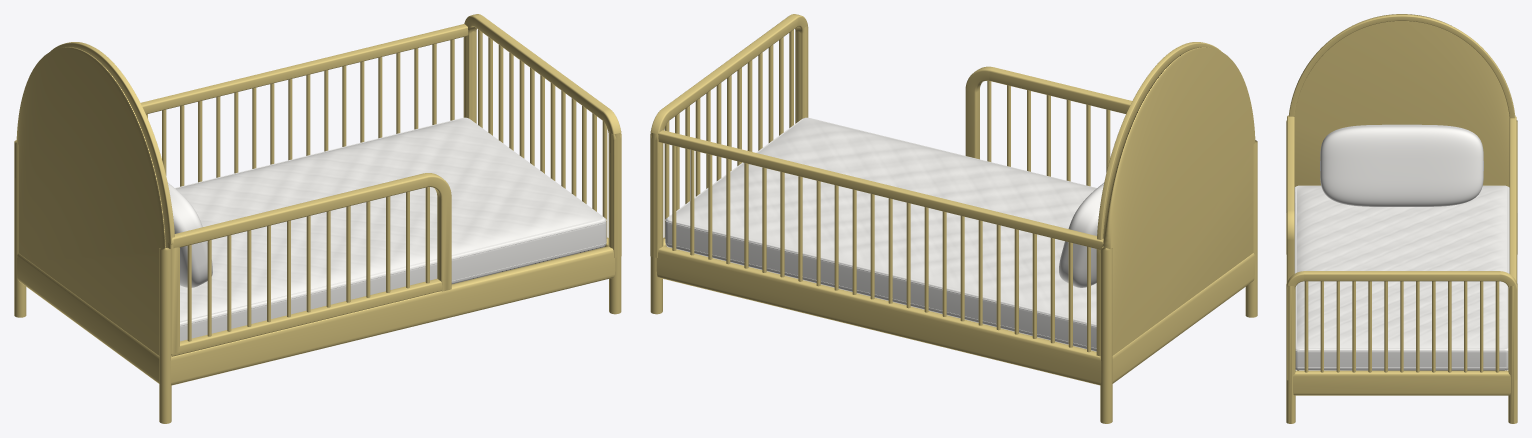
Rendered from yellow_toto2_kids.glb.
The picture shows the model from 3 angles, left to right: view 1: azimuth 30°, elevation 25°; view 2: azimuth 150°, elevation 25°; view 3: azimuth 270°, elevation 25°; orthographic projection. The views are drawn at different scales.
Visible parts, largest first — view 1: White diamond quilted comforter, Solid arched headboard, Long base rail, Fitted ivory mattress covering bed deck 2000 x 1110 x 120 mm, Front guard rounded entry corner, Rounded corner leg (×4), Rounded foot guard outer frame, Back upper rail, End base rail, Front lower rail, Foot guard vertical spindle (×5), Soft white rectangular pillow (+3 smaller); view 2: White diamond quilted comforter, Solid arched headboard, Long base rail, Fitted ivory mattress covering bed deck 2000 x 1110 x 120 mm, Back upper rail, Rounded corner leg (×4), Rounded foot guard outer frame, End base rail, Front guard rounded entry corner, Raised rounded arch border, Soft white rectangular pillow, Foot guard vertical spindle (+1 smaller); view 3: White diamond quilted comforter, Solid arched headboard, Soft white rectangular pillow, End base rail, Foot guard vertical spindle (×13), Fitted ivory mattress covering bed deck 2000 x 1110 x 120 mm, Rounded foot guard outer frame, Raised rounded arch border, Rounded corner leg (×2), Front guard rounded entry corner, Back upper rail, Mattress piping.
Part boxes in pixels (x1,y1,x2,y2): White diamond quilted comforter: (176,117,602,321); Solid arched headboard: (16,46,168,355); Long base rail: (170,246,615,385); Fitted ivory mattress covering bed deck 2000 x 1110 x 120 mm: (175,117,606,341); Front guard rounded entry corner: (172,173,451,291); Rounded corner leg (×4): (14,31,621,423); Rounded foot guard outer frame: (463,14,621,257); Back upper rail: (140,24,468,114); End base rail: (17,253,159,383); Front lower rail: (171,278,442,356); Foot guard vertical spindle (×5): (498,45,607,238); Soft white rectangular pillow: (167,182,212,287); White diamond quilted comforter: (669,117,1096,322); Solid arched headboard: (1103,46,1255,355); Long base rail: (656,246,1101,385); Fitted ivory mattress covering bed deck 2000 x 1110 x 120 mm: (665,117,1096,351); Back upper rail: (658,130,1103,249); Rounded corner leg (×4): (650,25,1257,423); Rounded foot guard outer frame: (650,14,808,257); End base rail: (1112,253,1254,383); Front guard rounded entry corner: (965,66,1132,159); Raised rounded arch border: (1096,42,1221,356); Soft white rectangular pillow: (1059,182,1104,287); Foot guard vertical spindle: (768,45,773,142); White diamond quilted comforter: (1297,186,1506,348); Solid arched headboard: (1294,14,1509,187); Soft white rectangular pillow: (1320,124,1483,206); End base rail: (1293,370,1510,395); Foot guard vertical spindle (×13): (1304,281,1499,372); Fitted ivory mattress covering bed deck 2000 x 1110 x 120 mm: (1294,185,1509,370); Rounded foot guard outer frame: (1286,271,1517,380); Raised rounded arch border: (1288,14,1515,118); Rounded corner leg (×2): (1286,283,1517,423); Front guard rounded entry corner: (1287,115,1294,282); Back upper rail: (1509,116,1516,281); Mattress piping: (1295,367,1508,368).
Size of the model in its own units: 2.09 by 1.37 by 1.19.
